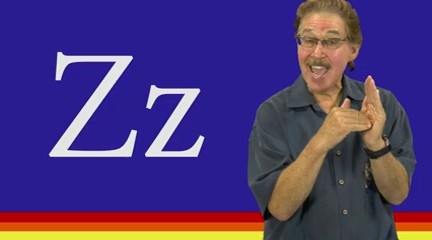Z: (313, 73, 393, 153)
